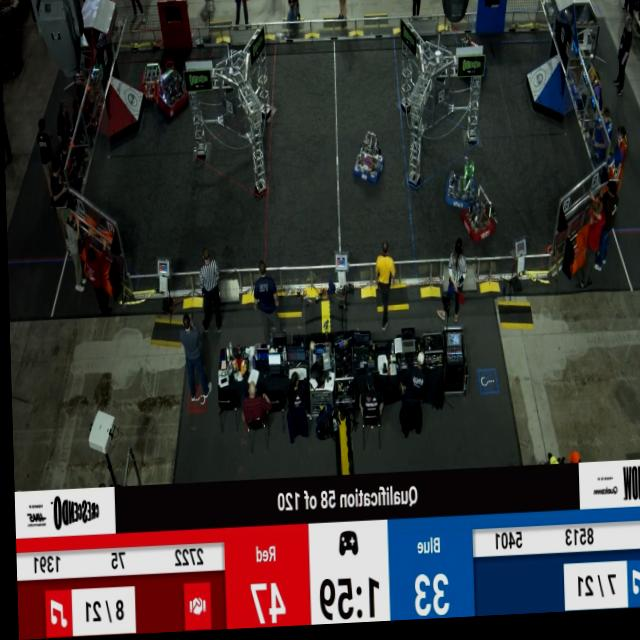Robot: (154, 65, 190, 124), (457, 197, 498, 248), (350, 132, 385, 191), (453, 37, 488, 96), (441, 163, 476, 215), (140, 51, 161, 110)
